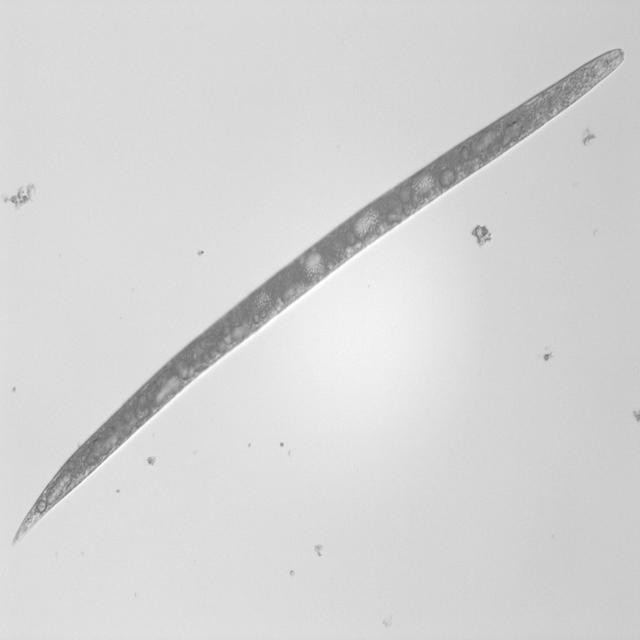Radopholus: (6, 41, 634, 552)
